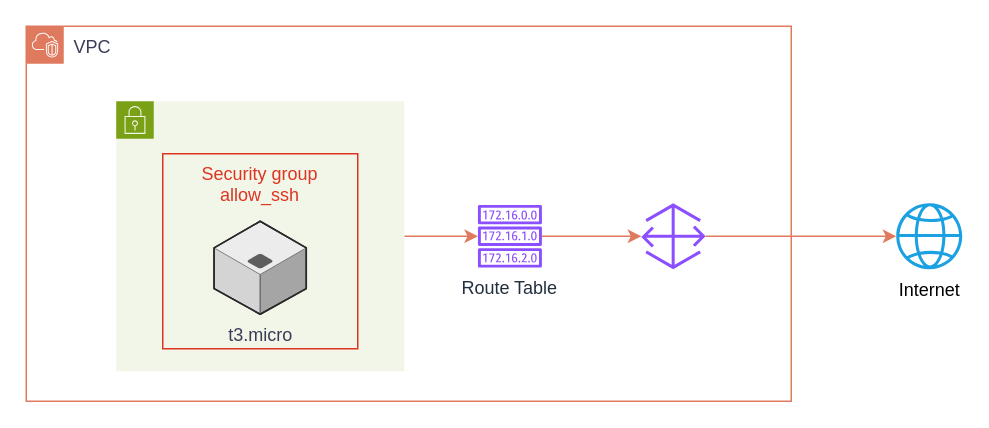
Some shapes in this 989 by 428 pixel diagram are drawn without their labels. The shapes that lost their labels are listed below. From the top down, each one's box as (x1, y1, x2, y2) in pixels, then its label:
(115, 100, 404, 371): lab-subnet 10.0.1.0/24
(640, 202, 705, 268): Internet Gateway
